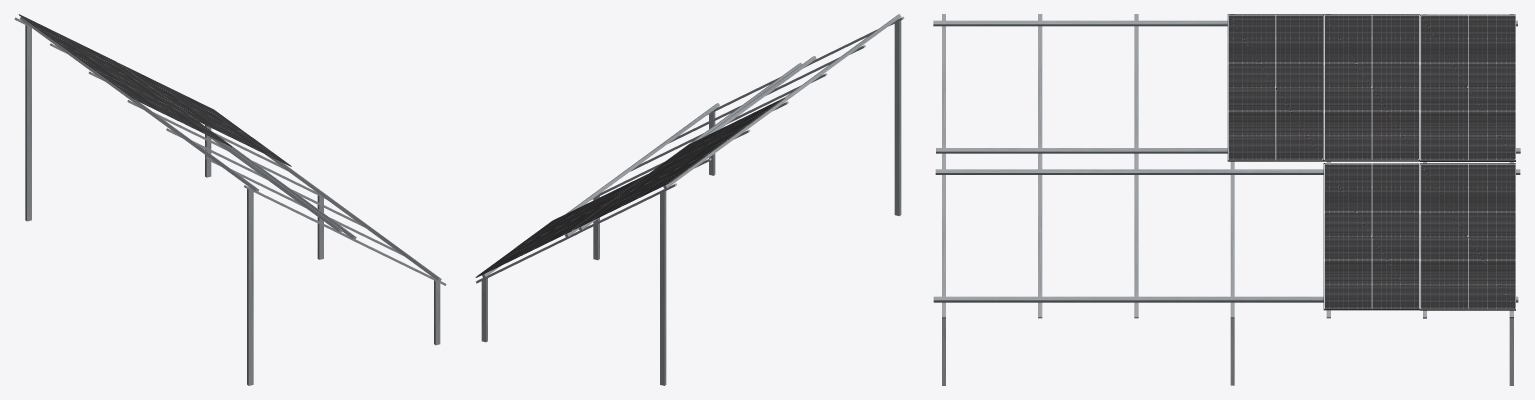
File: solar_panel_ground_5.glb
3 renders of one model, left to right at view 1: azimuth 30°, elevation 25°; view 2: azimuth 150°, elevation 25°; view 3: azimuth 270°, elevation 25°, orthographic. The views are drawn at different scales.
Visible parts, largest first — view 1: konstrukcja_metal.025, konstrukcja_metal.009, panel.007, konstrukcja_metal.014, panel.001, panel.006, panel.005, panel, konstrukcja_metal.001, konstrukcja_metal.002, konstrukcja_metal.003, konstrukcja_metal.012; view 2: konstrukcja_metal.025, konstrukcja_metal.009, panel.005, konstrukcja_metal.014, panel, panel.006, panel.007, panel.001, konstrukcja_metal.001, konstrukcja_metal.002, konstrukcja_metal.003, konstrukcja_metal.004; view 3: panel.006, panel.007, panel.001, panel, panel.005, konstrukcja_metal.001, konstrukcja_metal.003, konstrukcja_metal.014, konstrukcja_metal.002, konstrukcja_metal.019, konstrukcja_metal.020, konstrukcja_metal.010 (+4 smaller).
Part boxes in pixels (bbox=[...]): konstrukcja_metal.025: bbox=[247, 189, 253, 385]; konstrukcja_metal.009: bbox=[25, 25, 31, 221]; panel.007: bbox=[96, 71, 231, 146]; konstrukcja_metal.014: bbox=[20, 17, 259, 192]; panel.001: bbox=[156, 90, 291, 166]; panel.006: bbox=[57, 42, 192, 117]; panel.005: bbox=[18, 14, 152, 88]; panel: bbox=[117, 62, 250, 136]; konstrukcja_metal.001: bbox=[265, 154, 441, 281]; konstrukcja_metal.002: bbox=[205, 134, 342, 232]; konstrukcja_metal.003: bbox=[202, 124, 356, 239]; konstrukcja_metal.012: bbox=[434, 280, 440, 345]; konstrukcja_metal.025: bbox=[894, 20, 901, 216]; konstrukcja_metal.009: bbox=[660, 191, 666, 385]; panel.005: bbox=[573, 154, 707, 229]; konstrukcja_metal.014: bbox=[663, 14, 901, 189]; panel: bbox=[475, 202, 609, 277]; panel.006: bbox=[612, 126, 746, 200]; panel.007: bbox=[651, 97, 785, 171]; panel.001: bbox=[514, 174, 647, 248]; konstrukcja_metal.001: bbox=[482, 103, 719, 278]; konstrukcja_metal.002: bbox=[578, 56, 816, 230]; konstrukcja_metal.003: bbox=[565, 63, 801, 237]; konstrukcja_metal.004: bbox=[481, 278, 487, 342]; panel.006: bbox=[1323, 14, 1419, 161]; panel.007: bbox=[1227, 14, 1323, 161]; panel.001: bbox=[1323, 163, 1419, 310]; panel: bbox=[1420, 163, 1515, 310]; panel.005: bbox=[1420, 14, 1515, 161]; konstrukcja_metal.001: bbox=[933, 296, 1518, 302]; konstrukcja_metal.003: bbox=[935, 169, 1520, 174]; konstrukcja_metal.014: bbox=[933, 20, 1517, 26]; konstrukcja_metal.002: bbox=[936, 148, 1520, 153]; konstrukcja_metal.019: bbox=[1134, 14, 1138, 168]; konstrukcja_metal.020: bbox=[1038, 14, 1042, 168]; konstrukcja_metal.010: bbox=[1134, 168, 1138, 318].
Bounding box in the file's own units: 6.8 × 6.68 × 13.84.
2 materials, 2 textured.
